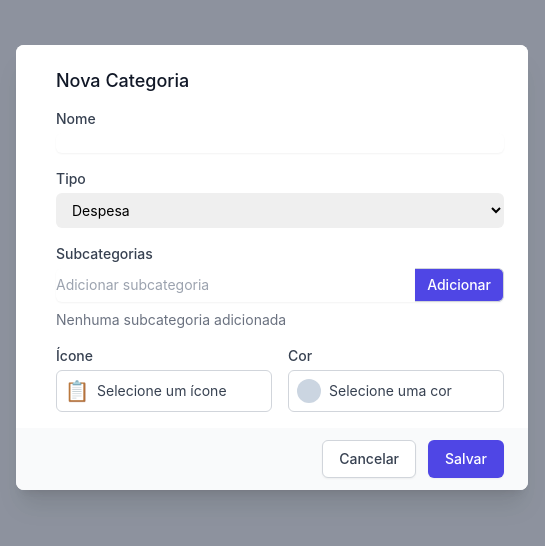
it: CategoryForm › não adiciona subcategoria duplicada
The width and height of the screenshot is (545, 546).
Note: Adiciona primeira subcategoria
Type "Duplicada" into the field with placeholder "Adicionar subcategoria" at (236, 284), box [56, 268, 415, 302]
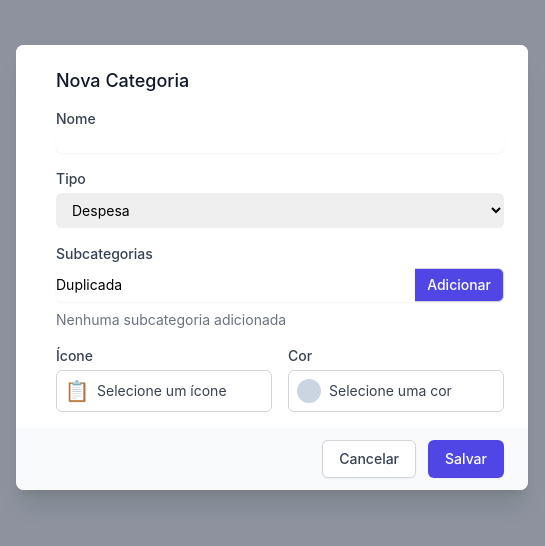
Click the button "Adicionar" at (460, 284), box [415, 268, 504, 302]
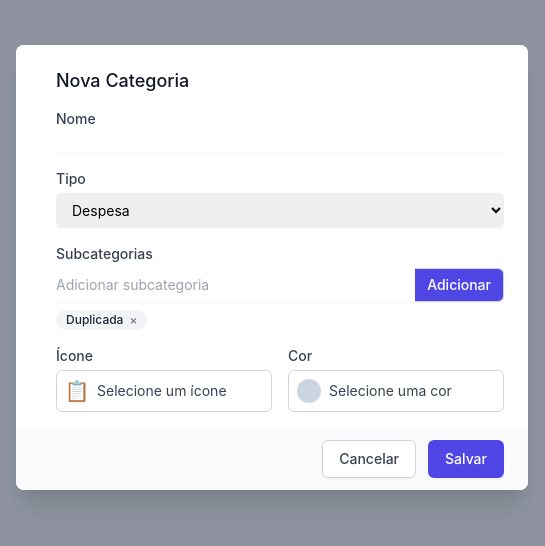
Result: the text "Duplicada" is shown at [66, 312, 123, 326]
Note: Tenta adicionar a mesma subcategoria
Type "Duplicada" into the field with placeholder "Adicionar subcategoria" at (236, 284), box [56, 268, 415, 302]
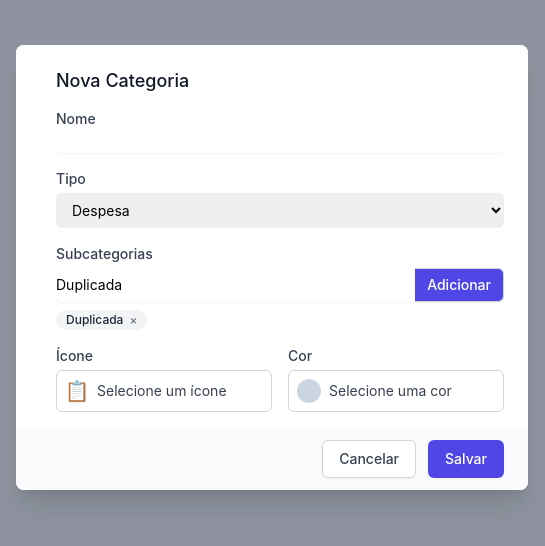
Click the button "Adicionar" at (460, 284), box [415, 268, 504, 302]
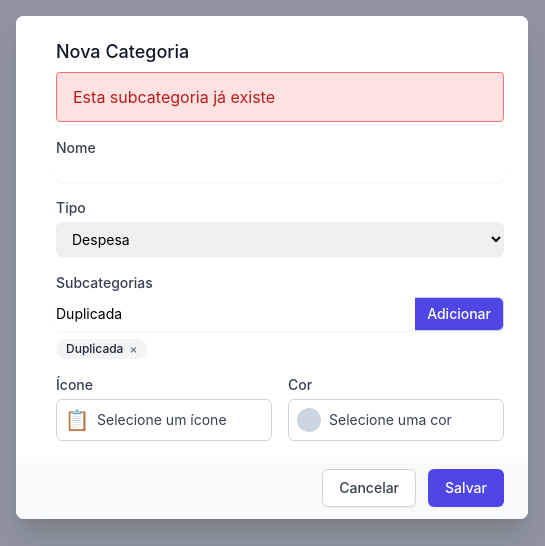
Result: the text "Duplicada" is shown once at [56, 338, 148, 358]
Result: the text "Esta subcategoria já existe" is shown at [73, 86, 275, 106]
